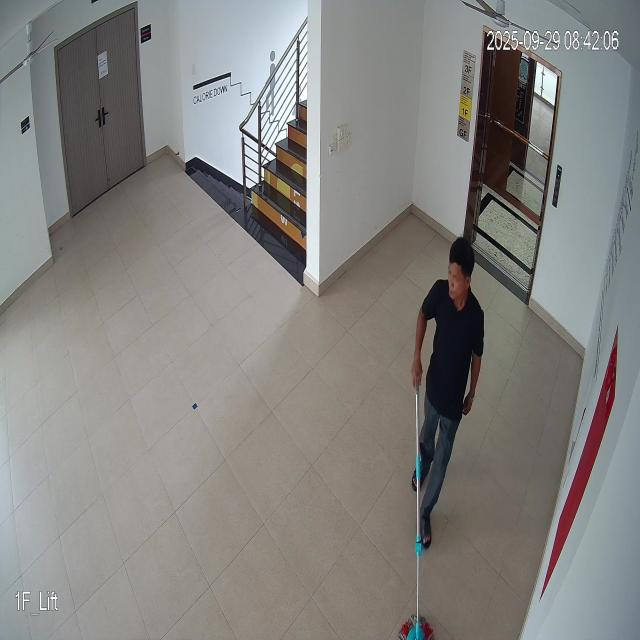face: (445, 244, 482, 303)
